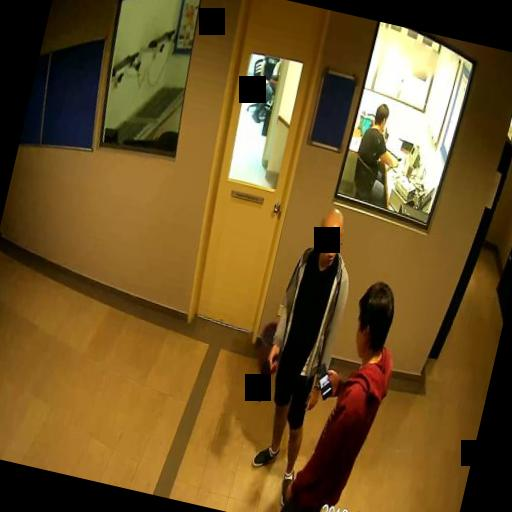Handgun: (252, 350, 278, 401)
